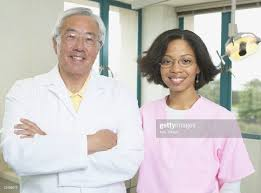asian_male: (45, 4, 116, 75)
